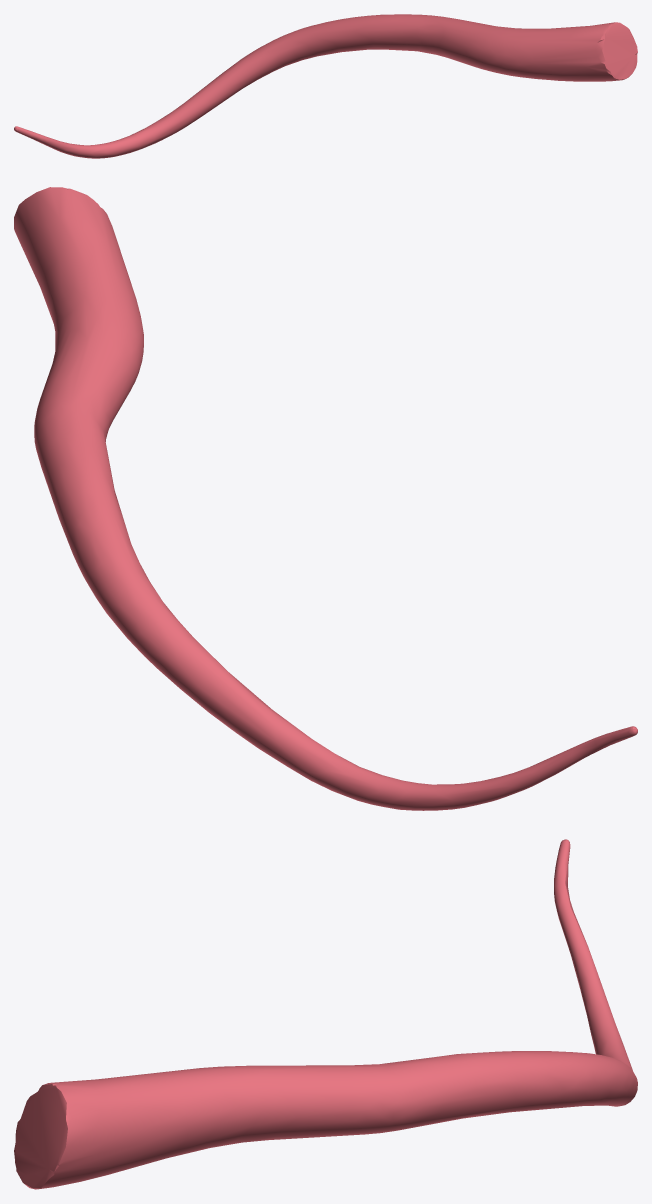
File: fma70489_fj3575.glb
3 views of the same model, one above another, from view 1: azimuth 30°, elevation 25°; view 2: azimuth 150°, elevation 25°; view 3: azimuth 270°, elevation 25° (orthographic). The views are drawn at different scales.
Visible parts, largest first — view 1: FMA70489_FJ3575; view 2: FMA70489_FJ3575; view 3: FMA70489_FJ3575.
Part boxes in pixels (bbox=[...]): FMA70489_FJ3575: bbox=[14, 14, 637, 158]; FMA70489_FJ3575: bbox=[14, 187, 637, 810]; FMA70489_FJ3575: bbox=[14, 839, 637, 1189].
Size of the model in its own units: 0.0467 by 0.0144 by 0.0279.
